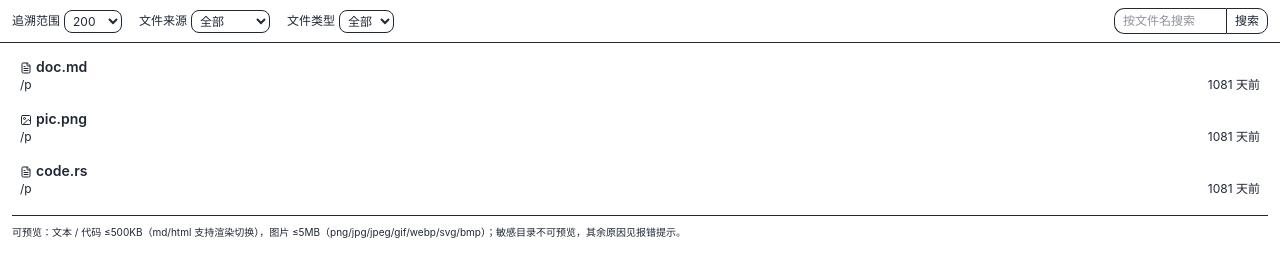
Test: FilePanel 文件类型下拉（用户裁决 5，原 chips 改下拉） › 切「文档」：仅 md 可见，图片与代码隐藏
Select "文档" in the dropdown with test id "file-kind-select": (366, 21) [339,10,394,32]
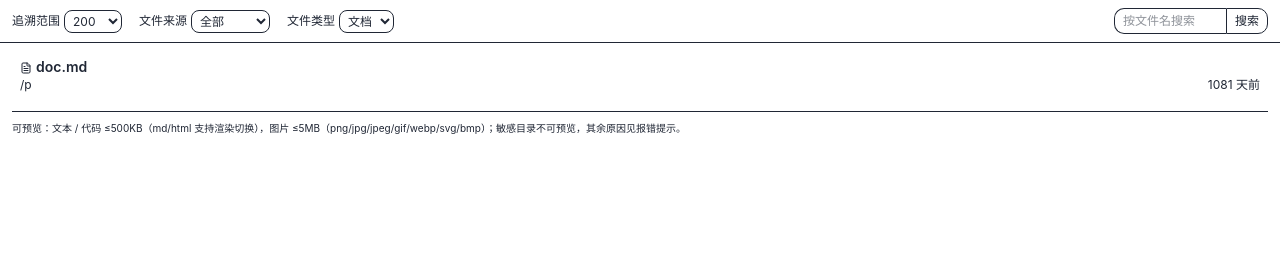
expect the button "doc.md" is shown: met, box [20,57,1260,77]
expect the button "pic.png" is gone: met
expect the button "code.rs" is gone: met
